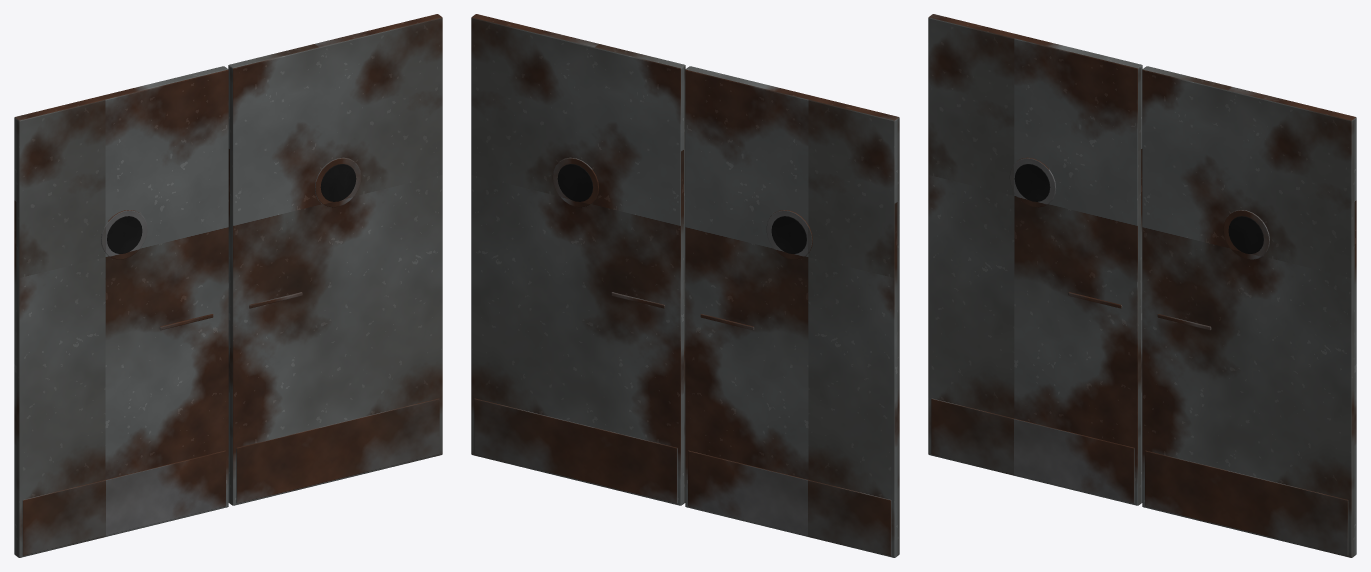
The model's file is F26_double_industrial_door.glb.
3 views of the same model, side by side, from view 1: azimuth 30°, elevation 25°; view 2: azimuth 150°, elevation 25°; view 3: azimuth 330°, elevation 25° (orthographic).
Parts seen in each view (by area): view 1: F26_double_industrial_door; view 2: F26_double_industrial_door; view 3: F26_double_industrial_door.
Part boxes in pixels (bbox=[...]): F26_double_industrial_door: bbox=[14, 14, 442, 557]; F26_double_industrial_door: bbox=[471, 14, 899, 557]; F26_double_industrial_door: bbox=[928, 14, 1356, 557].
Size of the model in its own units: 2.4 by 2.37 by 0.0645.
3 materials, 3 textured.
